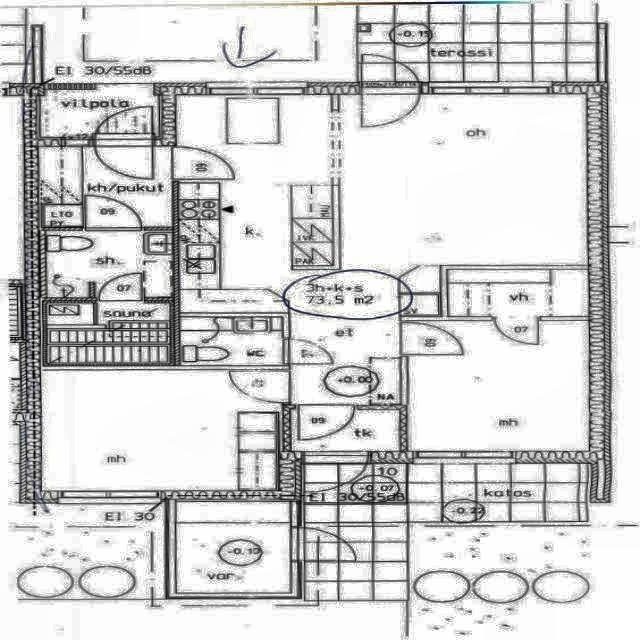room: (41, 370, 284, 491), (407, 320, 589, 451), (38, 146, 173, 227), (47, 230, 174, 297), (448, 269, 589, 316), (38, 90, 161, 139), (180, 317, 285, 365), (290, 408, 400, 451)
